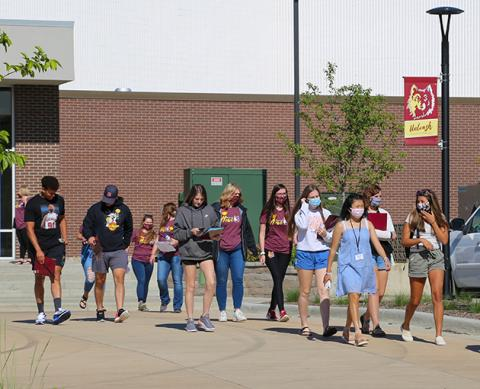with_mask: (228, 187, 241, 206), (309, 191, 321, 209), (352, 202, 364, 219), (370, 193, 382, 206), (416, 196, 427, 210), (141, 215, 151, 229), (277, 187, 285, 202)
without_mask: (44, 185, 56, 199), (194, 191, 202, 207)
